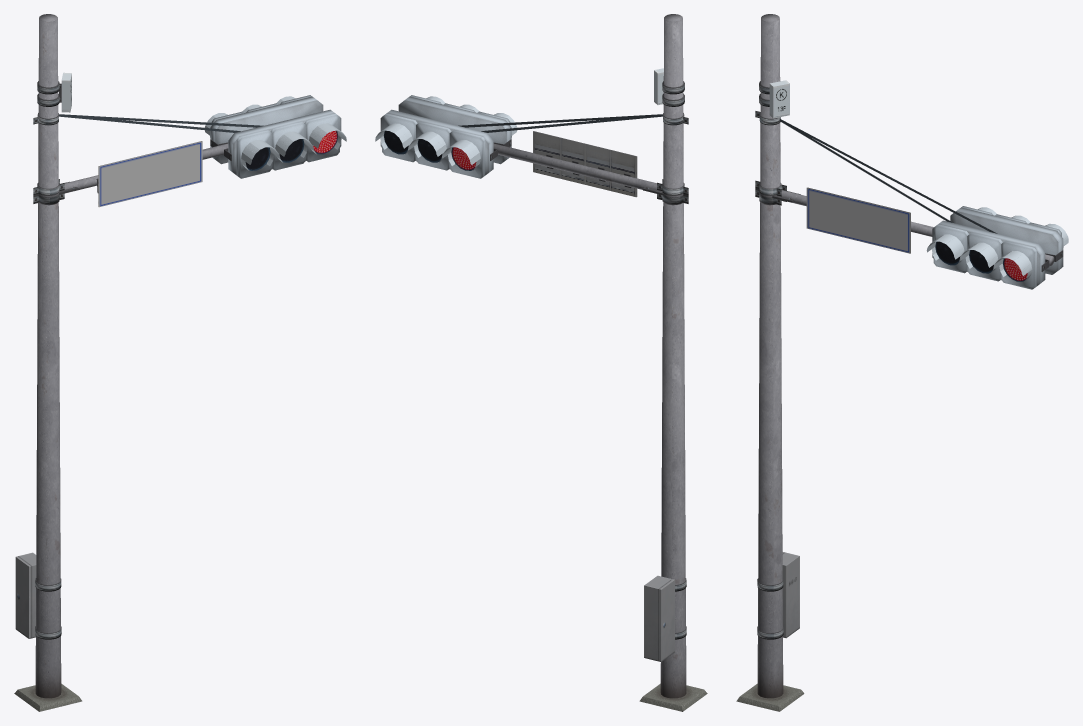
The model's file is Traffic_light_Auto_2_town.fbx.
3 views of the same model, side by side, from view 1: azimuth 30°, elevation 25°; view 2: azimuth 150°, elevation 25°; view 3: azimuth 330°, elevation 25° (orthographic).
Parts seen in each view (by area): view 1: 00_pillar, 30_Auto_light, 50_town_name, 35_Auto_light_2, 80_box_L, 86_box_SS, 20_Auto_latch_bar, 10_Auto_bar; view 2: 00_pillar, 35_Auto_light_2, 50_town_name, 30_Auto_light, 80_box_L, 10_Auto_bar, 86_box_SS, 20_Auto_latch_bar; view 3: 00_pillar, 30_Auto_light, 50_town_name, 35_Auto_light_2, 80_box_L, 86_box_SS, 20_Auto_latch_bar, 10_Auto_bar.
Boxes of the visible parts, x1,y1,x2,y2 form: 00_pillar: [14, 14, 82, 711]; 30_Auto_light: [59, 109, 346, 178]; 50_town_name: [96, 141, 202, 207]; 35_Auto_light_2: [61, 95, 323, 164]; 80_box_L: [15, 552, 61, 639]; 86_box_SS: [37, 72, 71, 112]; 20_Auto_latch_bar: [33, 179, 78, 205]; 10_Auto_bar: [64, 143, 228, 189]; 00_pillar: [639, 14, 707, 711]; 35_Auto_light_2: [375, 109, 662, 178]; 50_town_name: [533, 131, 637, 197]; 30_Auto_light: [398, 95, 660, 164]; 80_box_L: [644, 575, 686, 661]; 10_Auto_bar: [493, 143, 656, 189]; 86_box_SS: [654, 68, 684, 106]; 20_Auto_latch_bar: [643, 179, 688, 205]; 00_pillar: [736, 14, 804, 711]; 30_Auto_light: [779, 119, 1049, 289]; 50_town_name: [806, 187, 910, 253]; 35_Auto_light_2: [781, 119, 1068, 274]; 80_box_L: [757, 552, 799, 639]; 86_box_SS: [759, 80, 789, 118]; 20_Auto_latch_bar: [755, 180, 800, 205]; 10_Auto_bar: [781, 190, 1054, 265].
Size of the model in its own units: 3.51 by 7.5 by 0.938.
